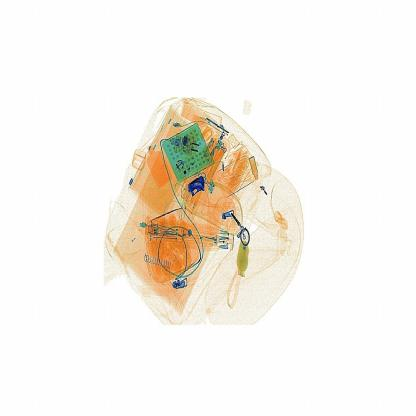knife: (184, 172, 208, 197)
